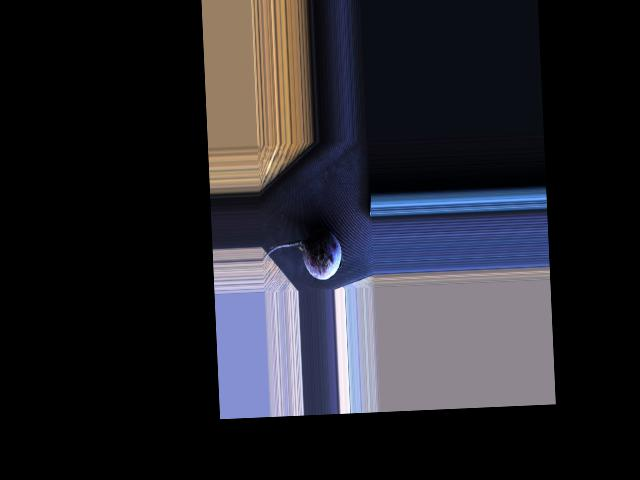beet: (261, 227, 342, 281)
